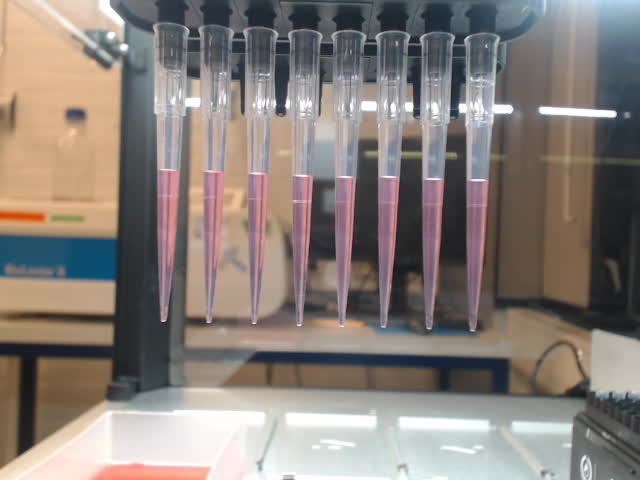Liquid: (152, 163, 184, 324), (199, 164, 230, 326), (463, 176, 494, 336), (289, 171, 319, 326), (419, 173, 447, 333), (375, 173, 403, 331), (244, 166, 271, 327), (332, 171, 358, 329)
Tip: (196, 22, 237, 326), (150, 20, 190, 324), (240, 25, 280, 327), (462, 30, 501, 335), (329, 28, 368, 330), (416, 30, 455, 332), (285, 27, 324, 328), (374, 28, 411, 331)
